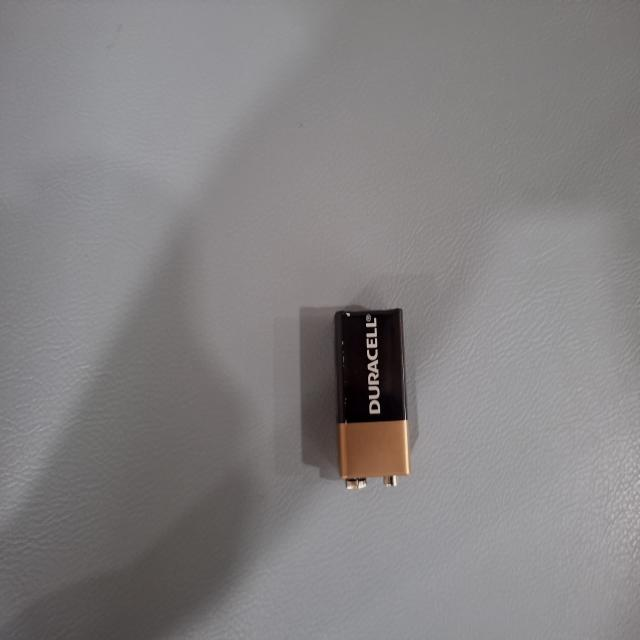9V: (228, 152, 305, 332)
